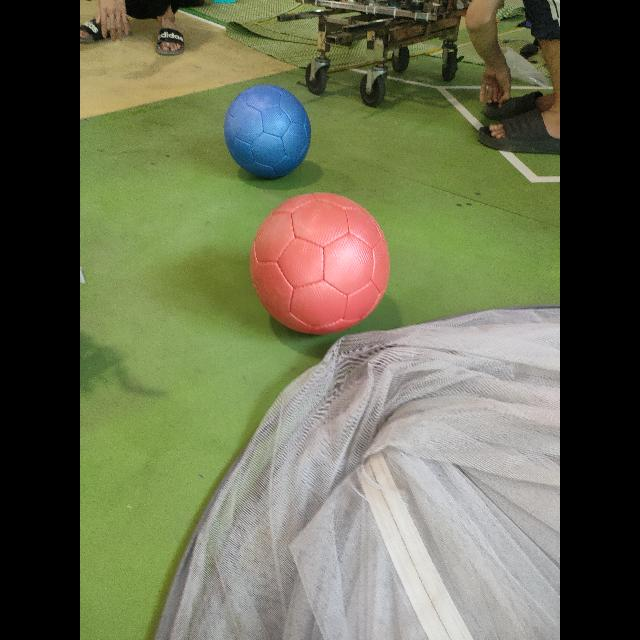B: (224, 85, 311, 179)
R: (250, 192, 390, 334)
